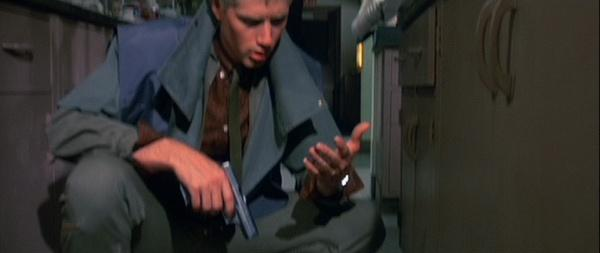Gun: (182, 161, 257, 238)
